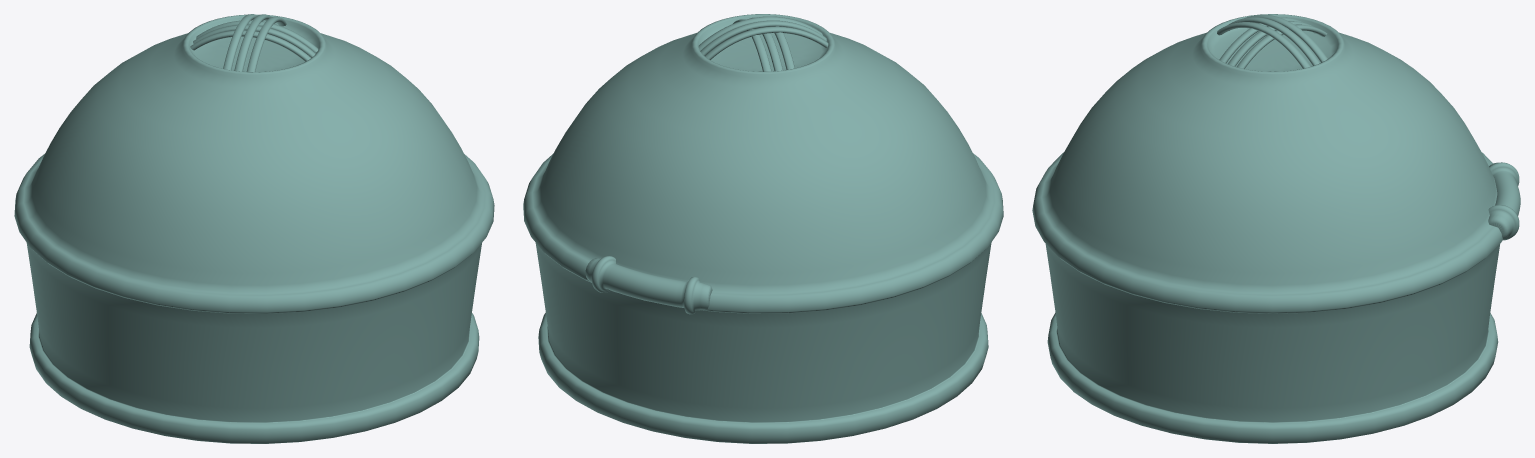
The model's file is Urt.fbx.
The picture shows the model from 3 angles, left to right: view 1: azimuth 30°, elevation 25°; view 2: azimuth 150°, elevation 25°; view 3: azimuth 270°, elevation 25°; orthographic projection.
Visible parts, largest first — view 1: pCylinder3, pCube26, pCube25, pCube23, pCube2, pCube24, pCube27; view 2: pCylinder3, pCylinder5, pCube24, pCube2, pCube23; view 3: pCylinder3, pCylinder5, pCube23, pCube2, pCube24, pCube27, pCube25.
Part boxes in pixels (<box>): pCylinder3: <box>14,14,494,443</box>; pCube26: <box>190,30,310,61</box>; pCube25: <box>193,25,315,57</box>; pCube23: <box>246,16,286,72</box>; pCube2: <box>234,14,271,71</box>; pCube24: <box>223,14,262,70</box>; pCube27: <box>196,20,318,52</box>; pCylinder3: <box>523,14,1003,443</box>; pCylinder5: <box>585,256,712,314</box>; pCube24: <box>705,26,828,59</box>; pCube2: <box>700,20,826,55</box>; pCube23: <box>698,16,822,50</box>; pCylinder3: <box>1032,14,1502,443</box>; pCylinder5: <box>1488,162,1520,240</box>; pCube23: <box>1217,22,1310,68</box>; pCube2: <box>1228,17,1319,65</box>; pCube24: <box>1244,14,1327,62</box>; pCube27: <box>1237,24,1327,68</box>; pCube25: <box>1228,21,1315,66</box>.
Bounding box in the file's own units: 1.83 × 1.39 × 1.86.
